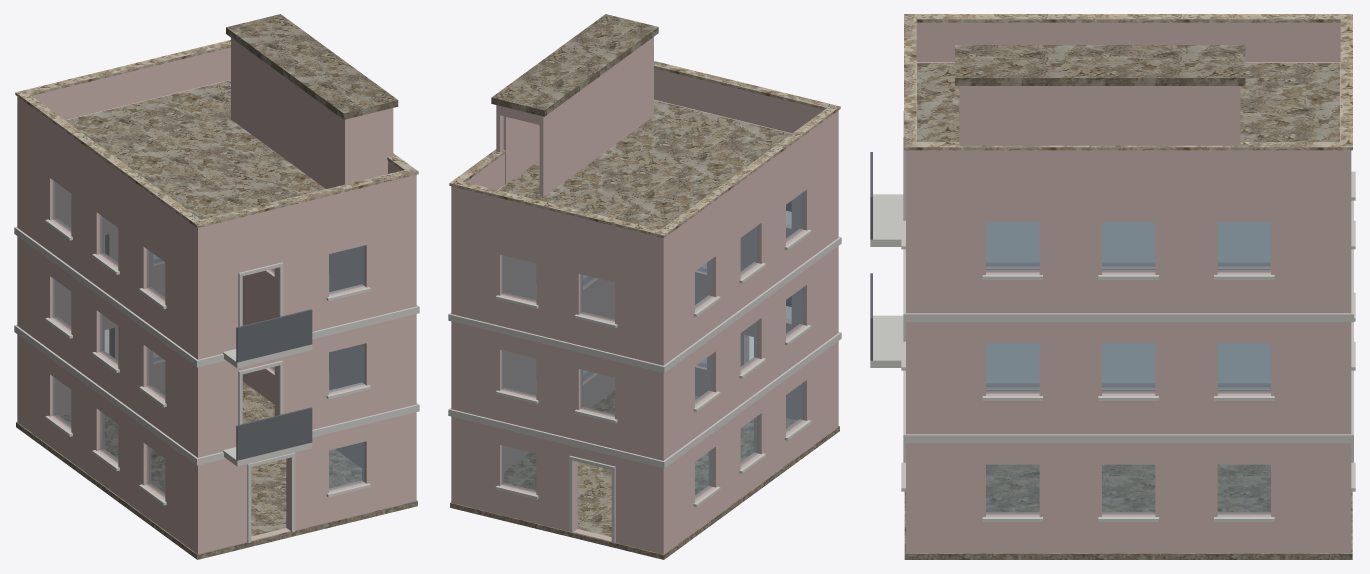
File: bay-townhouse-pink.glass-v3.lod1.glb
The picture shows the model from 3 angles, left to right: view 1: azimuth 30°, elevation 25°; view 2: azimuth 150°, elevation 25°; view 3: azimuth 270°, elevation 25°; orthographic projection. The views are drawn at different scales.
Parts seen in each view (by area): view 1: bay-townhouse-pink; view 2: bay-townhouse-pink; view 3: bay-townhouse-pink.
Part boxes in pixels (box(x1,y1,x2,y2)): bay-townhouse-pink: box(14, 14, 419, 559); bay-townhouse-pink: box(448, 14, 841, 559); bay-townhouse-pink: box(870, 14, 1355, 559).
Bounding box in the file's own units: 7.2 × 11.96 × 10.9.
Materials: 3 (1 with a texture image).
